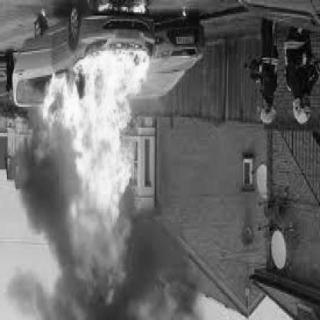Fire: (38, 35, 156, 299)
Smoke: (7, 226, 192, 320)
